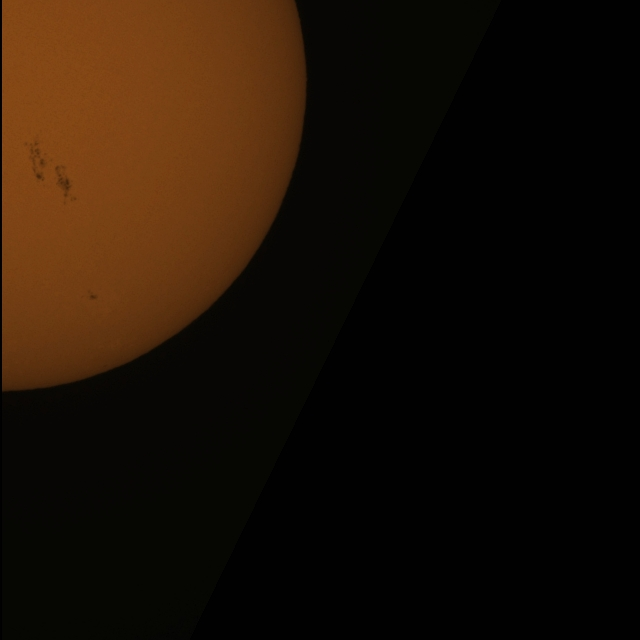sunspot: (29, 139, 62, 188), (54, 166, 78, 205), (86, 289, 98, 301)
